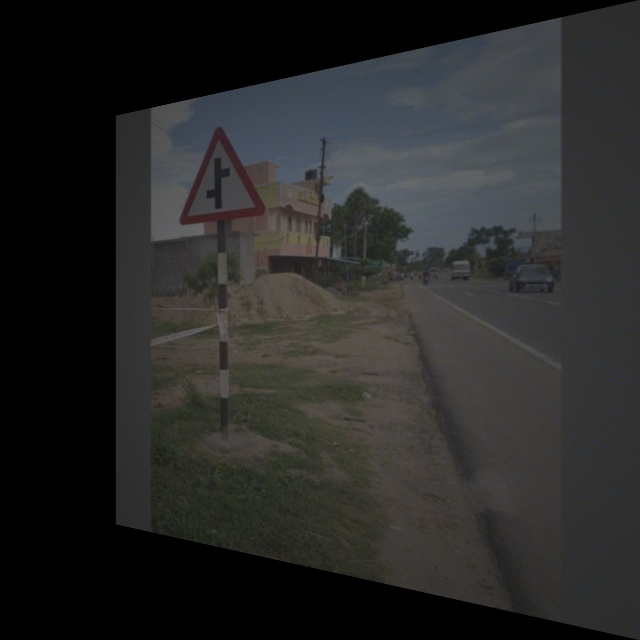Staggered_Intersection: (181, 109, 267, 230)
